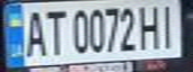0: (66, 4, 90, 55), (87, 5, 106, 53)
2: (118, 2, 139, 52)
7: (103, 3, 121, 53)
A: (21, 6, 48, 57)
H: (136, 1, 163, 51)
I: (154, 1, 181, 48)
T: (42, 6, 69, 56)
